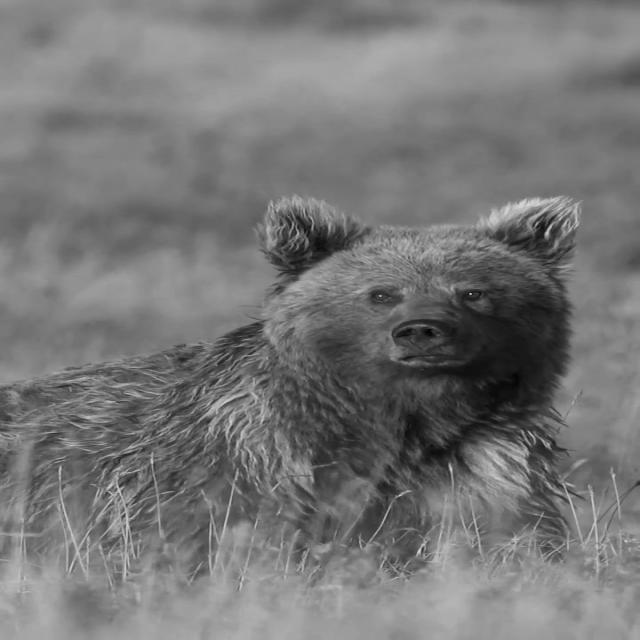Bear: (0, 194, 586, 590)
